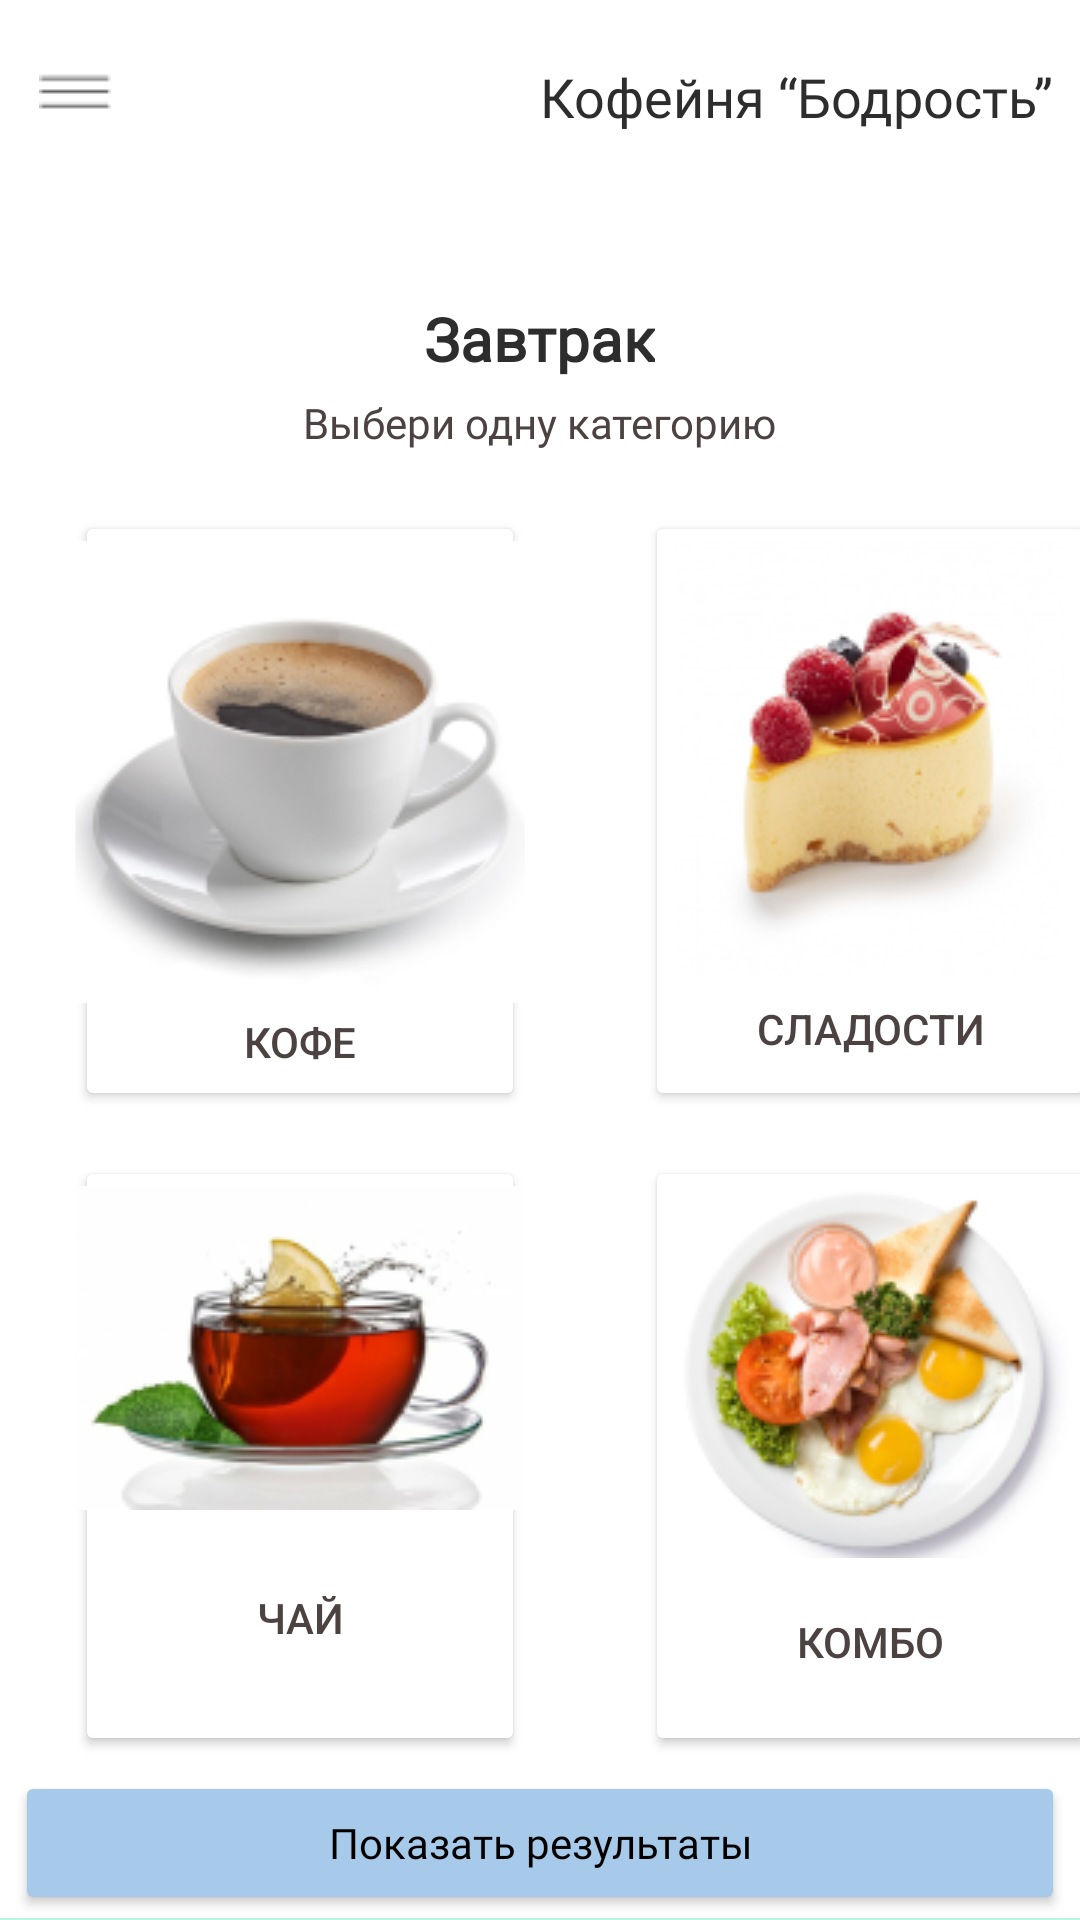

Named icons in this screenshot (1080px x 1920px) and their centers, point (x, y):
menu: point (75, 92)
